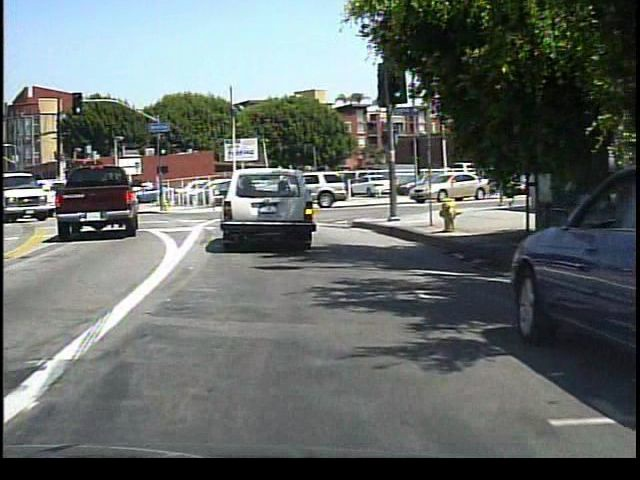person: (388, 165, 405, 203)
